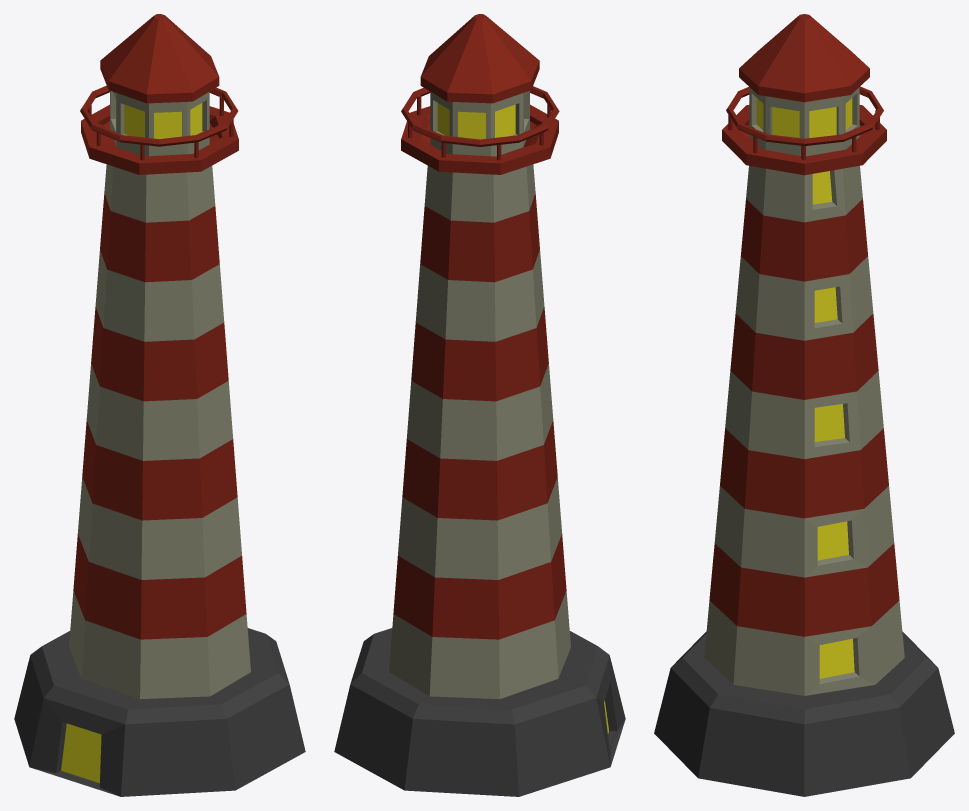
Rendered from Lighthouse.fbx.
The picture shows the model from 3 angles, left to right: view 1: azimuth 30°, elevation 25°; view 2: azimuth 150°, elevation 25°; view 3: azimuth 270°, elevation 25°; orthographic projection.
Parts seen in each view (by area): view 1: Cylinder; view 2: Cylinder; view 3: Cylinder.
Part boxes in pixels (left/top/right/bottom): Cylinder: left=14, top=14, right=305, bottom=796; Cylinder: left=334, top=14, right=625, bottom=796; Cylinder: left=654, top=14, right=954, bottom=796.
Bounding box in the file's own units: 225 × 591 × 225.
